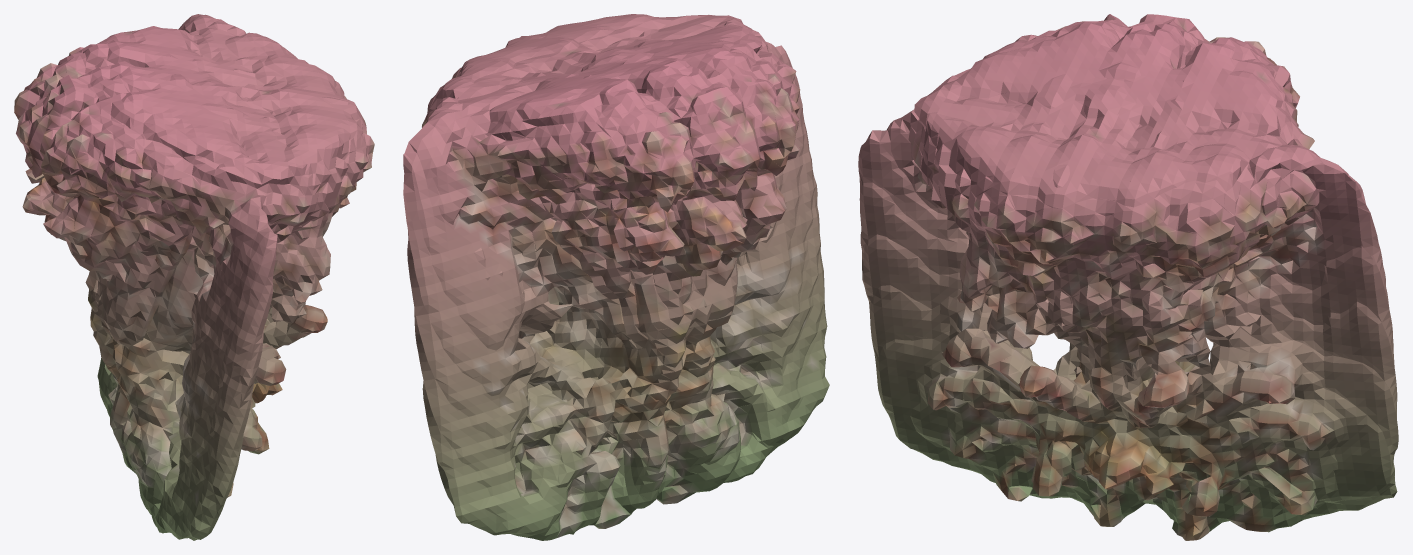
The model's file is sundew_jewel.glb.
3 views of the same model, side by side, from view 1: azimuth 30°, elevation 25°; view 2: azimuth 150°, elevation 25°; view 3: azimuth 270°, elevation 25° (orthographic). The views are drawn at different scales.
Parts seen in each view (by area): view 1: world; view 2: world; view 3: world.
Part boxes in pixels (x1=…): world: x1=14, y1=14, x2=374, y2=540; world: x1=403, y1=14, x2=829, y2=540; world: x1=858, y1=14, x2=1398, y2=540.
Bounding box in the file's own units: 3.02 × 4 × 4.04.
